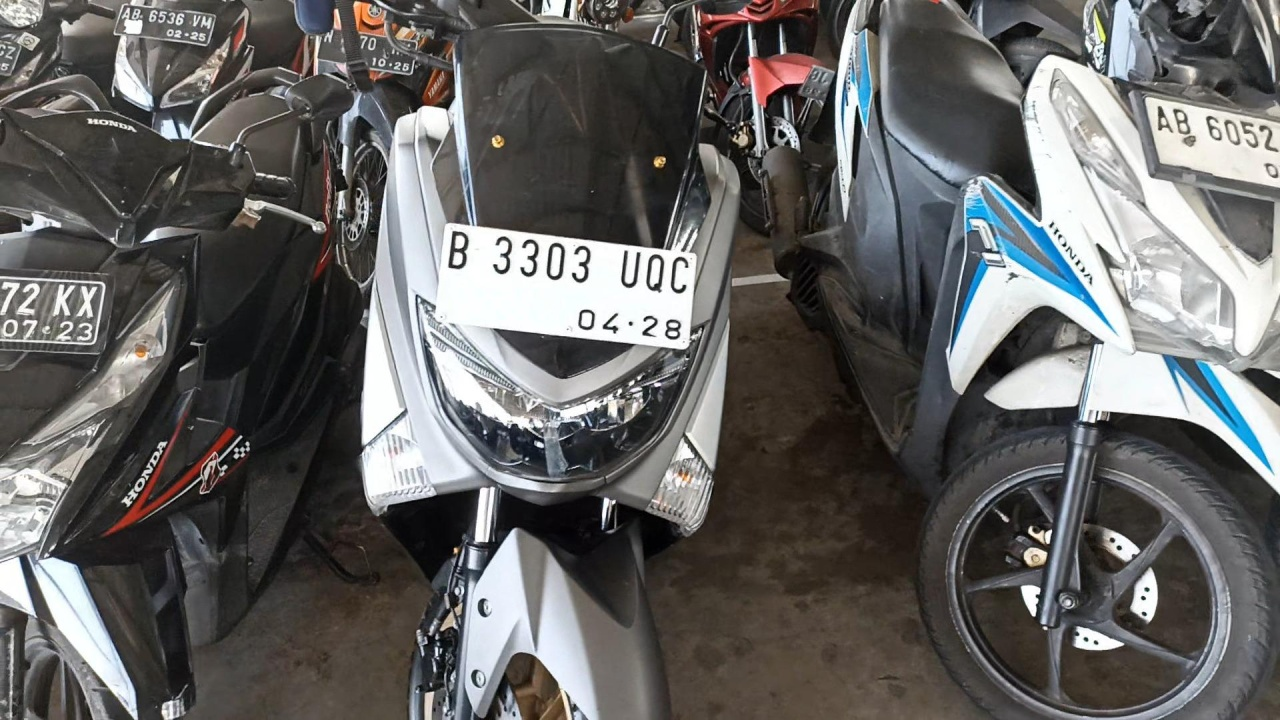plate: (435, 223, 697, 349), (114, 3, 216, 45)
